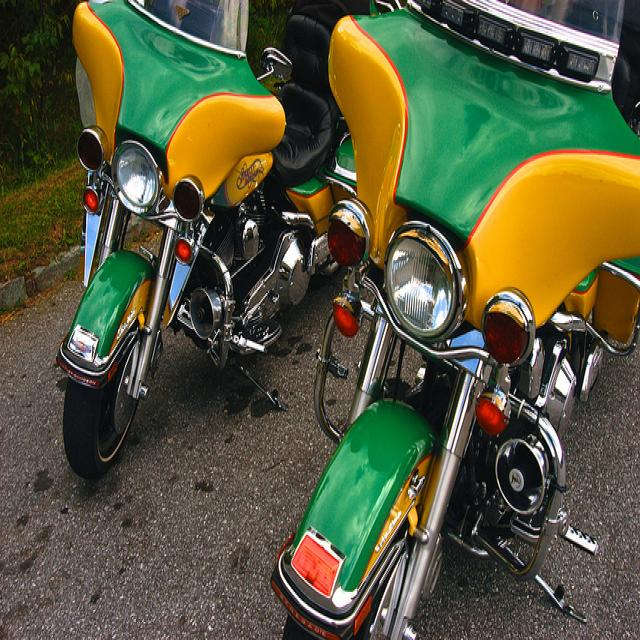motor: (272, 0, 640, 637), (56, 2, 360, 481)
